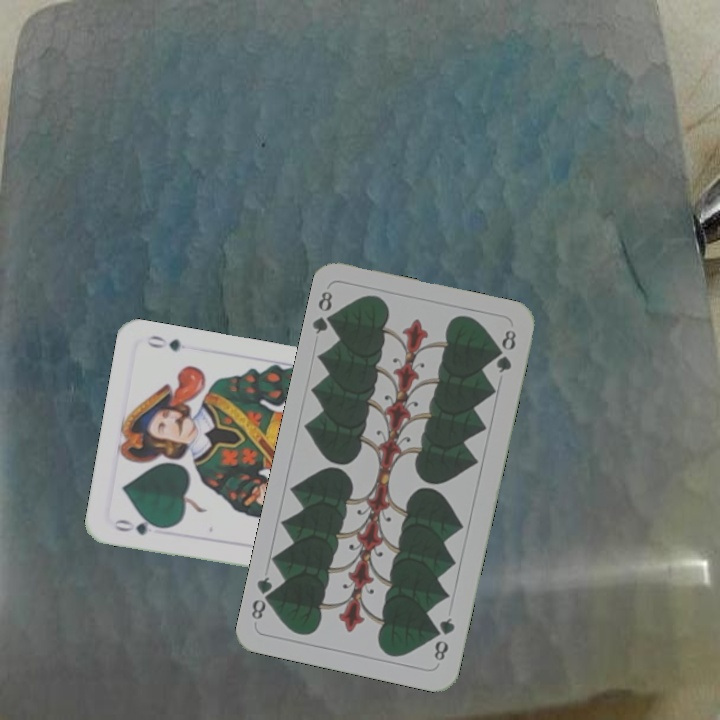G8: (309, 287, 340, 337), (430, 613, 458, 664)
GO: (109, 515, 169, 538)
